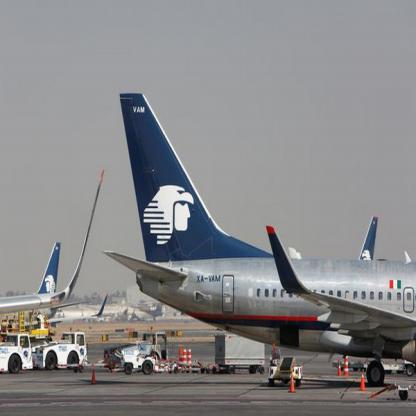CIV_Plane: (101, 86, 416, 362), (0, 170, 96, 341)
